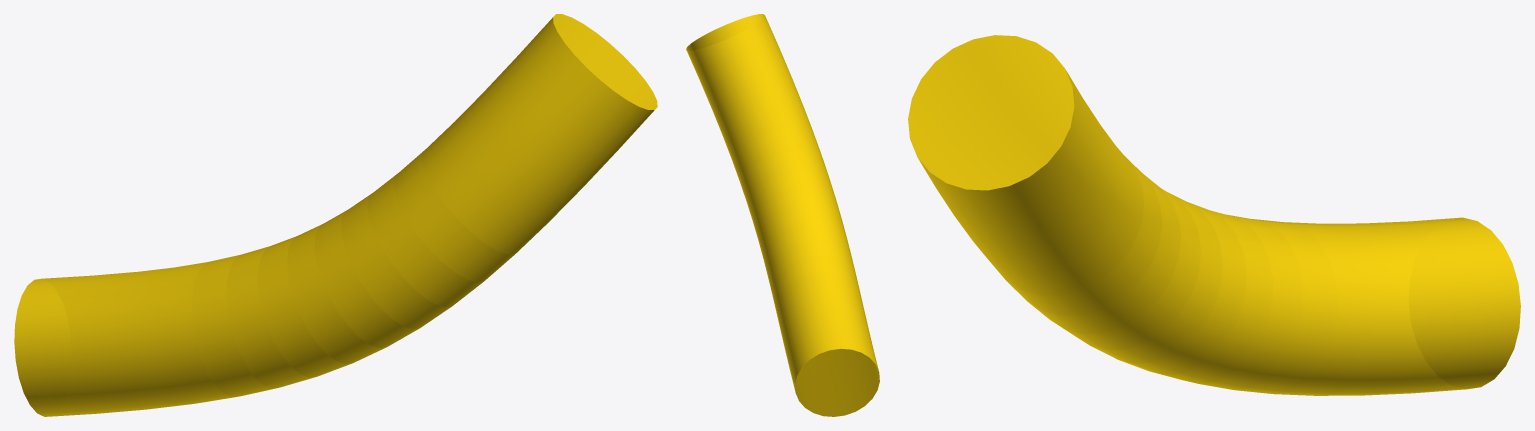
Rendered from Event_421115418_track_124.fbx.
3 renders of one model, left to right at view 1: azimuth 30°, elevation 25°; view 2: azimuth 150°, elevation 25°; view 3: azimuth 270°, elevation 25°, orthographic. The views are drawn at different scales.
Parts seen in each view (by area): view 1: Model; view 2: Model; view 3: Model.
Part boxes in pixels (x1=…): Model: x1=14, y1=14, x2=657, y2=416; Model: x1=686, y1=14, x2=879, y2=416; Model: x1=908, y1=35, x2=1520, y2=395.
Size of the model in its own units: 0.1552 by 0.1391 by 0.1423.
